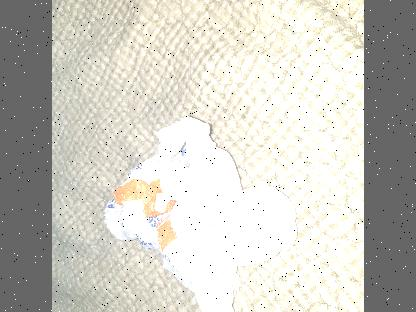Others: (104, 116, 297, 312)
